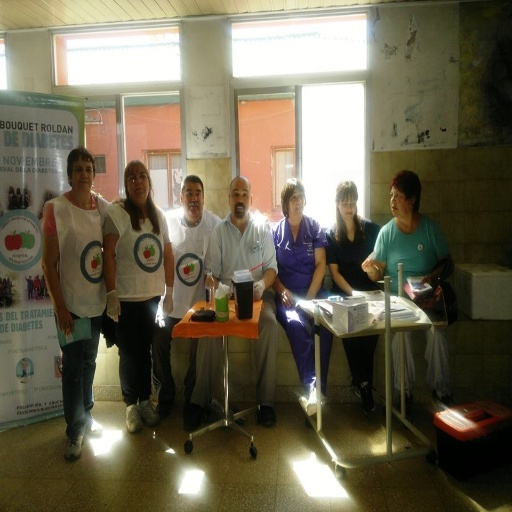hand: (102, 291, 122, 323), (54, 308, 73, 335), (418, 275, 438, 293), (160, 292, 173, 318), (278, 289, 294, 309), (360, 253, 376, 273), (252, 278, 264, 302), (218, 284, 233, 299)
